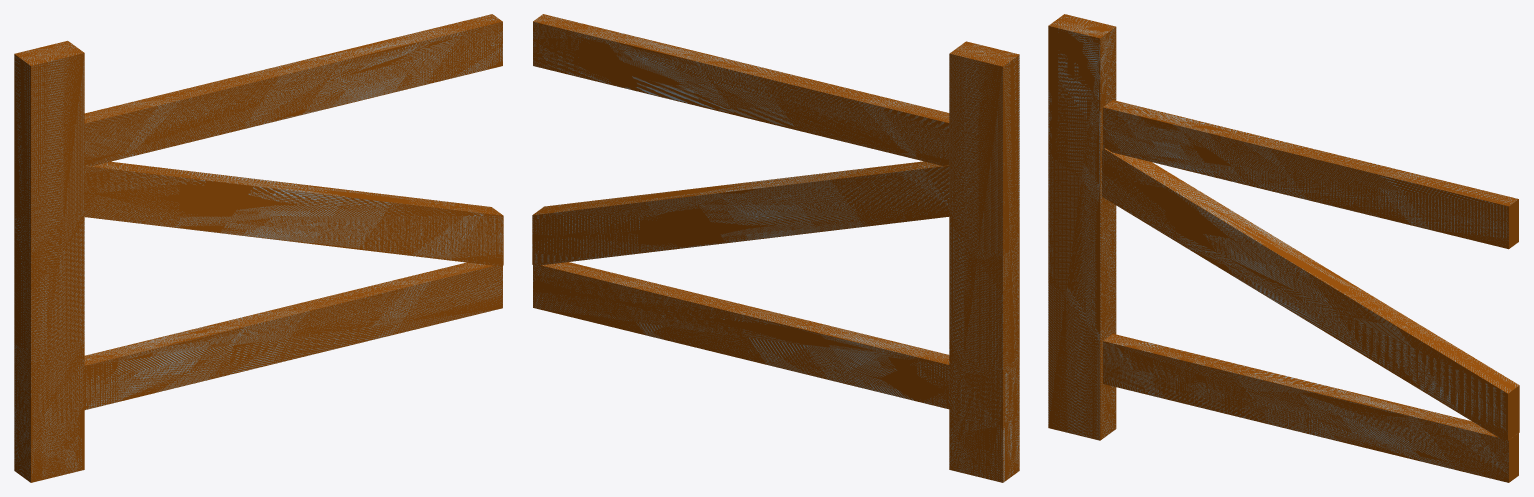
Rendered from Fence_Small_Timber_03.fbx.
The picture shows the model from 3 angles, left to right: view 1: azimuth 30°, elevation 25°; view 2: azimuth 150°, elevation 25°; view 3: azimuth 330°, elevation 25°; orthographic projection. The views are drawn at different scales.
Parts seen in each view (by area): view 1: Model; view 2: Model; view 3: Model.
Boxes of the visible parts, x1,y1,x2,y2 form: Model: [14, 14, 503, 482]; Model: [532, 14, 1019, 482]; Model: [1048, 14, 1519, 482].
Size of the model in its own units: 216 by 181 by 13.18.
